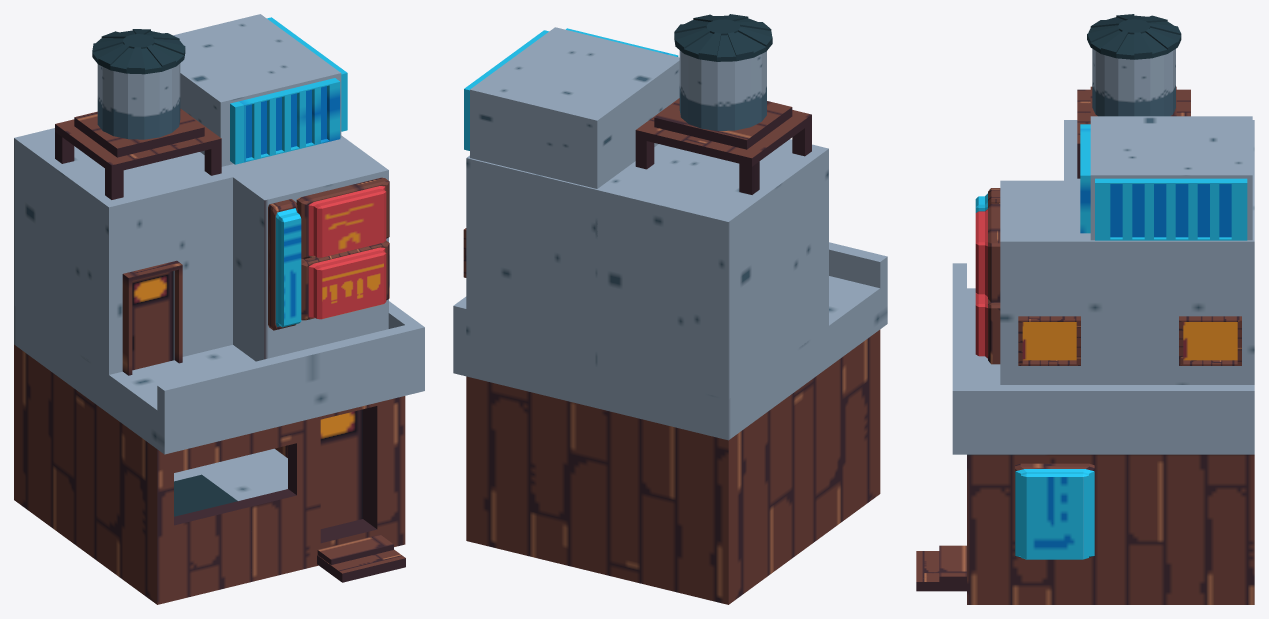
File: Casa com gerador.v1.2108.Anibal.fbx
3 renders of one model, left to right at view 1: azimuth 30°, elevation 25°; view 2: azimuth 150°, elevation 25°; view 3: azimuth 270°, elevation 25°, orthographic. The views are drawn at different scales.
Parts seen in each view (by area): view 1: Casa com gerador; view 2: Casa com gerador; view 3: Casa com gerador.
Part boxes in pixels (left/top/right/bottom): Casa com gerador: left=14, top=14, right=424, bottom=604; Casa com gerador: left=453, top=14, right=887, bottom=604; Casa com gerador: left=916, top=14, right=1254, bottom=604.
Bounding box in the file's own units: 614 × 674 × 1074.
